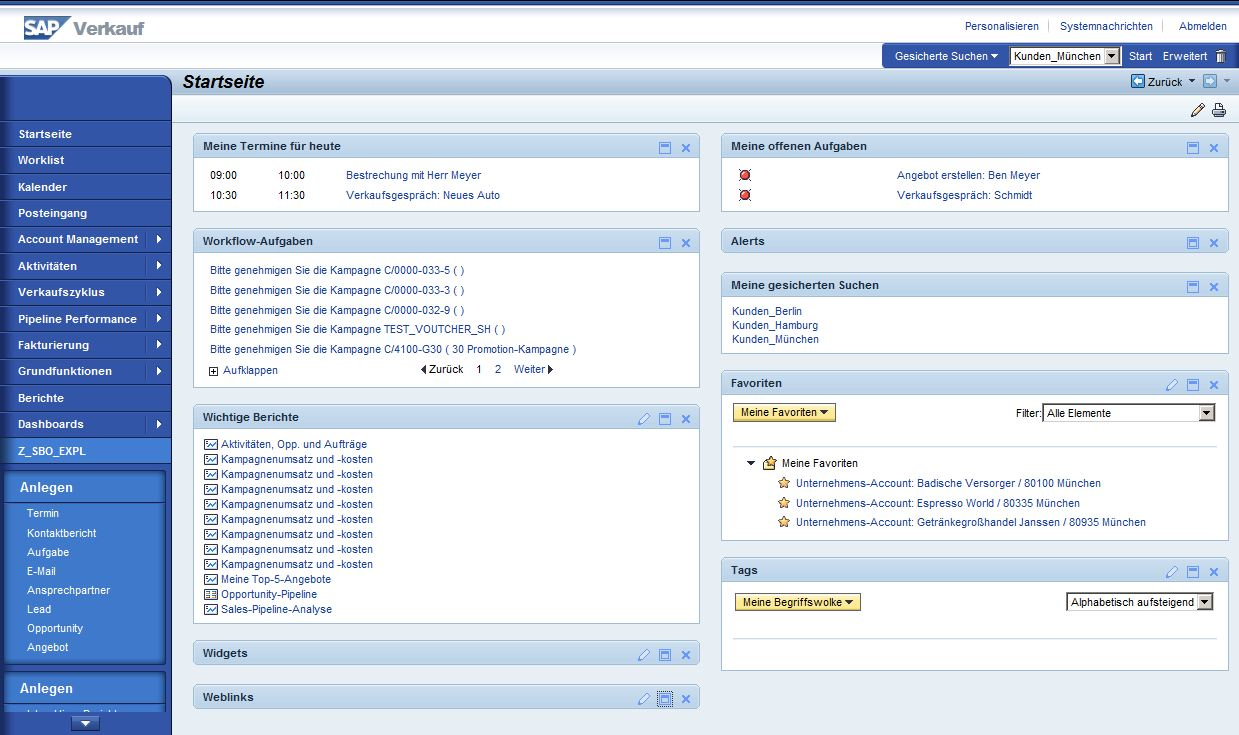button: (209, 343, 578, 357), (5, 672, 165, 704), (5, 471, 166, 502), (795, 515, 1147, 529), (1, 147, 172, 175), (1, 226, 172, 254), (1, 200, 172, 227), (1, 331, 172, 358), (1, 385, 172, 412), (1, 412, 172, 439), (1, 120, 172, 146), (1, 253, 172, 279), (1, 359, 172, 385), (1, 174, 171, 200), (1, 305, 172, 330), (1, 439, 172, 464), (1, 280, 171, 305), (209, 322, 506, 336), (795, 476, 1102, 489), (795, 496, 1081, 509), (209, 263, 466, 277), (209, 283, 465, 297), (209, 303, 465, 317), (734, 592, 862, 612), (345, 188, 501, 203), (895, 168, 1041, 183), (733, 402, 837, 422), (894, 188, 1034, 202), (345, 168, 484, 182), (220, 438, 368, 451), (220, 453, 374, 465), (220, 468, 373, 480), (893, 47, 1000, 64), (24, 579, 113, 599), (220, 483, 373, 494), (220, 514, 373, 525), (220, 543, 373, 554), (221, 499, 373, 510), (221, 529, 373, 539), (221, 559, 372, 569), (24, 523, 101, 542), (1058, 20, 1155, 34), (731, 332, 820, 346), (221, 604, 333, 615), (25, 618, 88, 637), (963, 19, 1042, 34), (731, 319, 820, 332), (221, 574, 331, 584), (221, 589, 318, 600), (1128, 72, 1185, 90), (731, 303, 804, 317), (24, 637, 75, 657), (224, 363, 279, 378), (24, 543, 72, 560), (24, 503, 63, 523), (1177, 20, 1230, 34), (1161, 50, 1210, 64), (420, 362, 465, 377), (24, 561, 62, 578), (25, 599, 59, 618), (513, 362, 555, 377), (71, 716, 100, 731), (1127, 49, 1155, 64), (1208, 99, 1228, 119), (1189, 99, 1207, 120), (1104, 47, 1122, 67), (656, 689, 674, 708), (1201, 72, 1219, 90), (636, 689, 653, 706), (1205, 561, 1222, 578), (1163, 561, 1179, 579), (1185, 561, 1201, 579), (1200, 403, 1215, 422), (1198, 592, 1213, 611), (636, 411, 653, 427), (1185, 376, 1201, 393), (657, 411, 673, 427), (657, 647, 673, 663), (1184, 72, 1198, 90), (637, 647, 652, 663), (678, 690, 693, 706), (1185, 235, 1201, 250), (1185, 278, 1201, 293), (1164, 377, 1180, 392), (679, 412, 694, 427), (1214, 48, 1228, 64), (678, 648, 693, 662), (1207, 235, 1221, 250), (1219, 73, 1232, 89), (658, 140, 672, 154), (658, 236, 672, 250), (1186, 141, 1200, 155), (1208, 278, 1220, 294), (207, 364, 220, 378), (1207, 141, 1220, 155), (1207, 378, 1220, 392), (744, 456, 758, 469), (680, 140, 692, 154), (680, 235, 692, 249), (493, 363, 502, 378)
common: (781, 456, 861, 470), (277, 167, 308, 182), (208, 168, 240, 182), (207, 187, 239, 201), (1014, 405, 1042, 421), (277, 187, 306, 200), (474, 362, 484, 377)
container: (173, 93, 1239, 735), (171, 121, 1239, 735), (1, 76, 172, 734), (193, 403, 701, 624), (194, 429, 700, 623), (722, 371, 1229, 540), (193, 228, 701, 390), (194, 252, 700, 389), (721, 557, 1228, 672), (1, 1, 1239, 41), (723, 447, 1228, 539), (721, 581, 1228, 671), (721, 272, 1230, 354), (193, 134, 699, 212), (208, 262, 579, 359), (1, 43, 1239, 70), (3, 471, 167, 666), (171, 94, 1239, 123), (722, 296, 1229, 353), (721, 158, 1228, 211), (193, 158, 699, 211), (172, 69, 1239, 94), (721, 395, 1228, 447), (5, 503, 165, 665), (722, 132, 1229, 158), (193, 640, 699, 666), (193, 684, 699, 709), (721, 228, 1229, 252), (721, 557, 1229, 581), (193, 404, 700, 428), (722, 272, 1229, 296), (193, 133, 699, 157), (722, 371, 1229, 394), (194, 229, 700, 252), (881, 43, 1239, 69), (774, 511, 1148, 531), (206, 184, 504, 206), (4, 672, 165, 712), (774, 474, 1104, 493), (774, 491, 1086, 511), (736, 166, 1042, 185), (206, 166, 487, 185), (1013, 403, 1217, 425), (737, 188, 1035, 203), (1043, 403, 1216, 424), (1066, 592, 1213, 612), (741, 451, 865, 474), (418, 360, 557, 380), (203, 496, 374, 512), (202, 467, 375, 482), (202, 526, 374, 541), (203, 511, 374, 526), (203, 437, 368, 452), (203, 453, 375, 467), (203, 482, 375, 496), (202, 541, 374, 555), (202, 557, 374, 570), (1010, 48, 1123, 67), (203, 571, 333, 586), (203, 602, 333, 617), (203, 586, 320, 602), (1128, 72, 1199, 91), (207, 362, 280, 379), (1200, 72, 1233, 91)
header: (730, 278, 880, 293), (202, 139, 342, 153), (181, 71, 267, 93), (730, 140, 868, 153), (201, 234, 314, 248), (72, 19, 146, 38), (202, 410, 299, 423), (201, 689, 256, 705), (730, 375, 783, 390), (201, 646, 249, 659), (730, 234, 766, 248), (730, 563, 760, 578)
image: (23, 13, 72, 40), (761, 454, 778, 472), (776, 474, 792, 491), (776, 493, 792, 510), (776, 513, 792, 529), (737, 166, 752, 183), (203, 437, 219, 450), (203, 452, 219, 465), (203, 467, 219, 480), (203, 483, 219, 496), (203, 512, 218, 525), (203, 573, 219, 585), (738, 189, 752, 202), (204, 498, 219, 510), (203, 528, 218, 540), (203, 543, 218, 555), (203, 588, 218, 600), (203, 603, 218, 615), (203, 558, 218, 569)
text-input: (1043, 403, 1200, 422), (1066, 591, 1198, 611), (1010, 48, 1104, 66)
